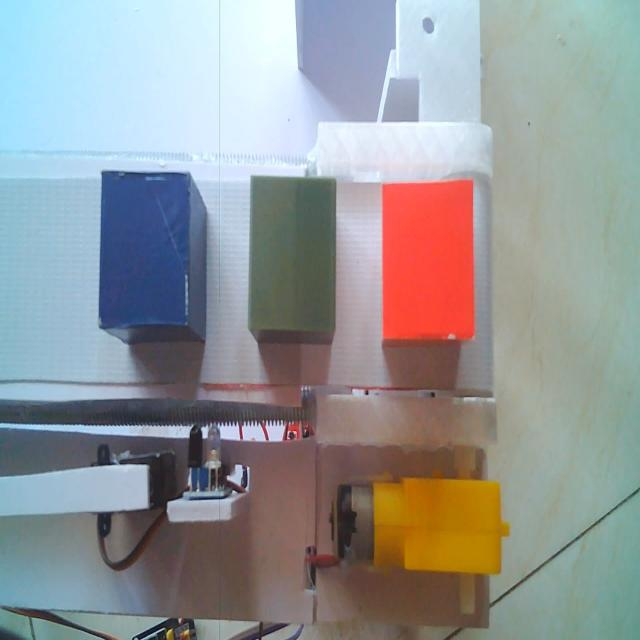blue: (96, 158, 210, 359)
green: (245, 166, 338, 355)
red: (376, 173, 483, 356)
